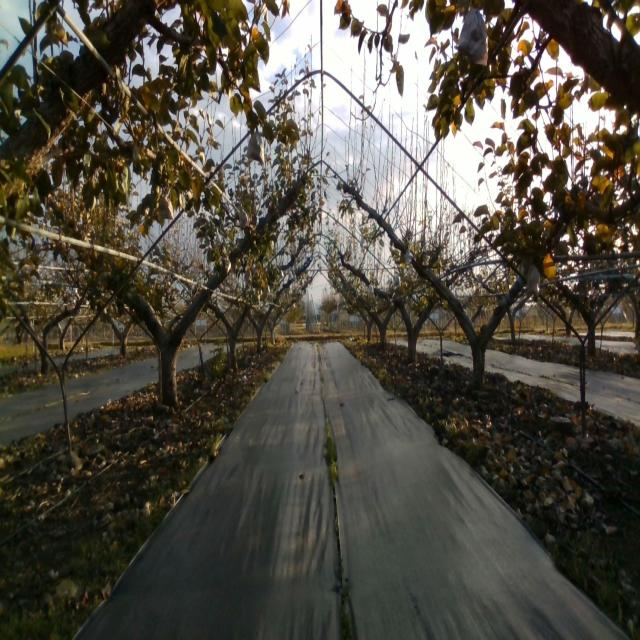pearbags: (458, 8, 488, 67), (245, 126, 265, 166), (158, 194, 174, 222), (527, 263, 540, 297), (239, 208, 249, 228)
